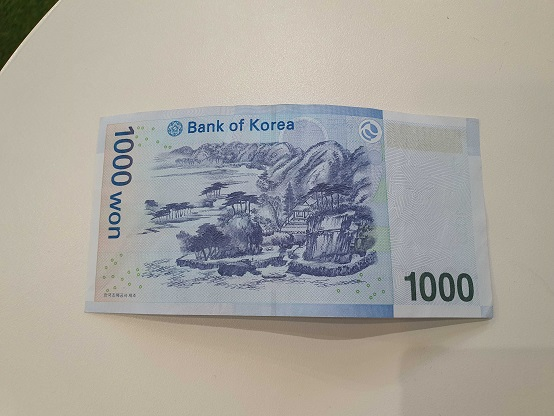1000won: (85, 106, 495, 320)
